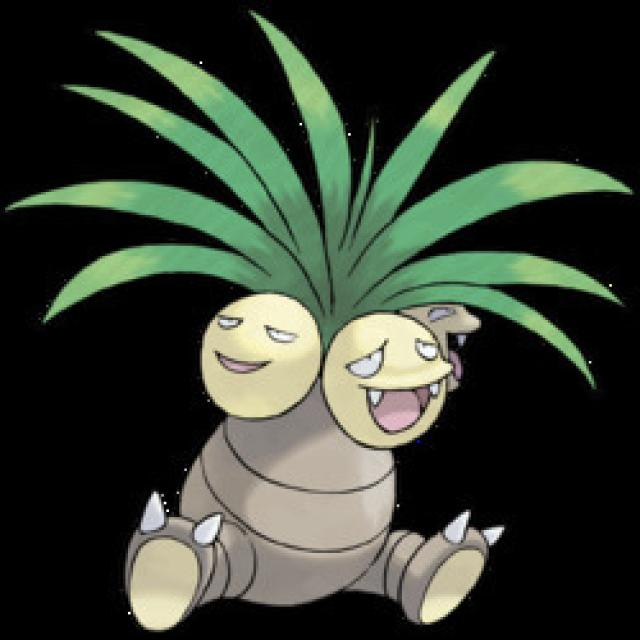Exeggutor: (155, 163, 490, 630)
